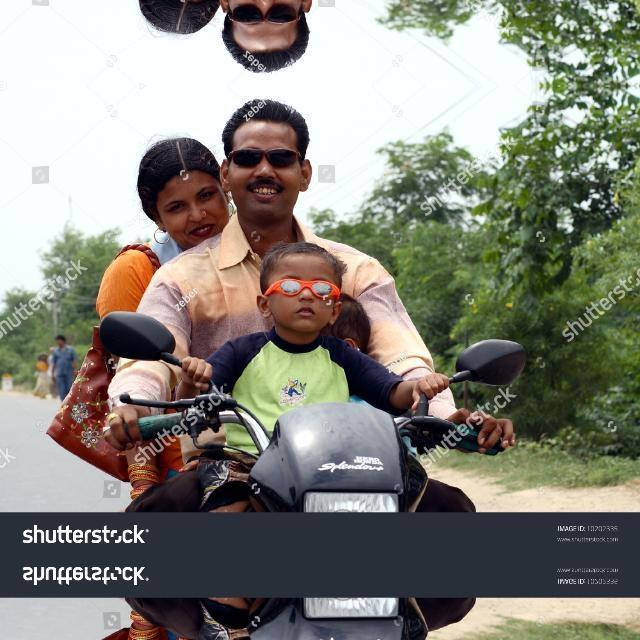person: (212, 93, 312, 253), (246, 246, 350, 398), (119, 139, 225, 259), (211, 0, 312, 77), (119, 0, 225, 31)
